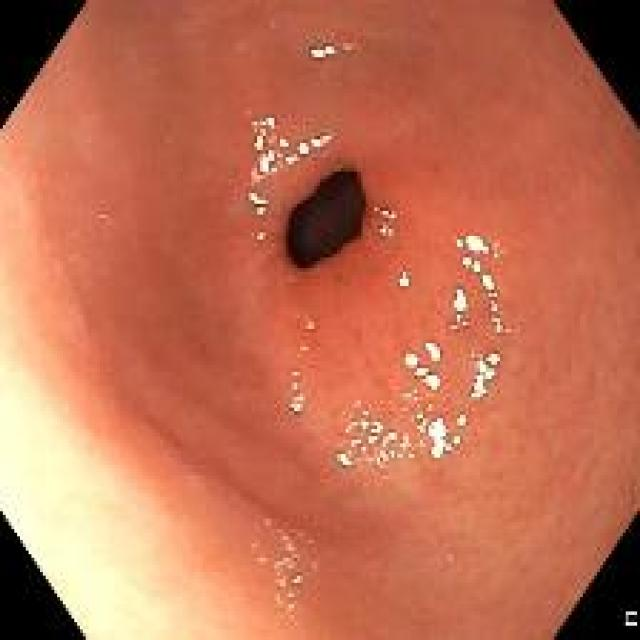bubbles: (380, 222, 394, 241)
contrast: (285, 168, 366, 271)
saturation: (0, 327, 231, 638)
specularity: (345, 409, 415, 470), (471, 357, 498, 400), (427, 416, 452, 459), (250, 116, 277, 149), (299, 133, 332, 158), (466, 231, 489, 256), (415, 367, 439, 390), (247, 191, 268, 215), (448, 314, 468, 336), (452, 286, 468, 311), (289, 390, 305, 415), (257, 149, 274, 171), (335, 451, 355, 469), (309, 46, 338, 58), (425, 341, 441, 362), (415, 412, 429, 433), (485, 350, 501, 368), (381, 208, 400, 221), (397, 271, 411, 288), (482, 273, 495, 291), (402, 354, 419, 367), (283, 153, 298, 167), (456, 413, 468, 428), (381, 223, 393, 237), (450, 432, 461, 446), (278, 135, 290, 147), (492, 319, 501, 335), (461, 256, 471, 269), (256, 230, 267, 241), (472, 261, 482, 273), (455, 238, 465, 249), (294, 575, 302, 586), (306, 322, 315, 330), (491, 306, 497, 311)
